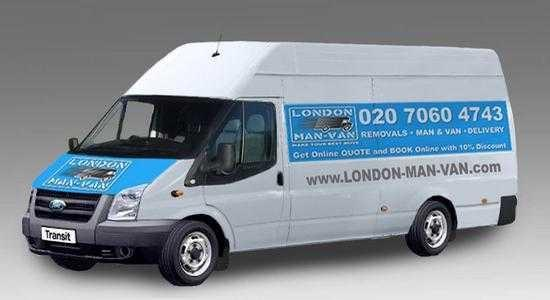car: (17, 35, 520, 285)
